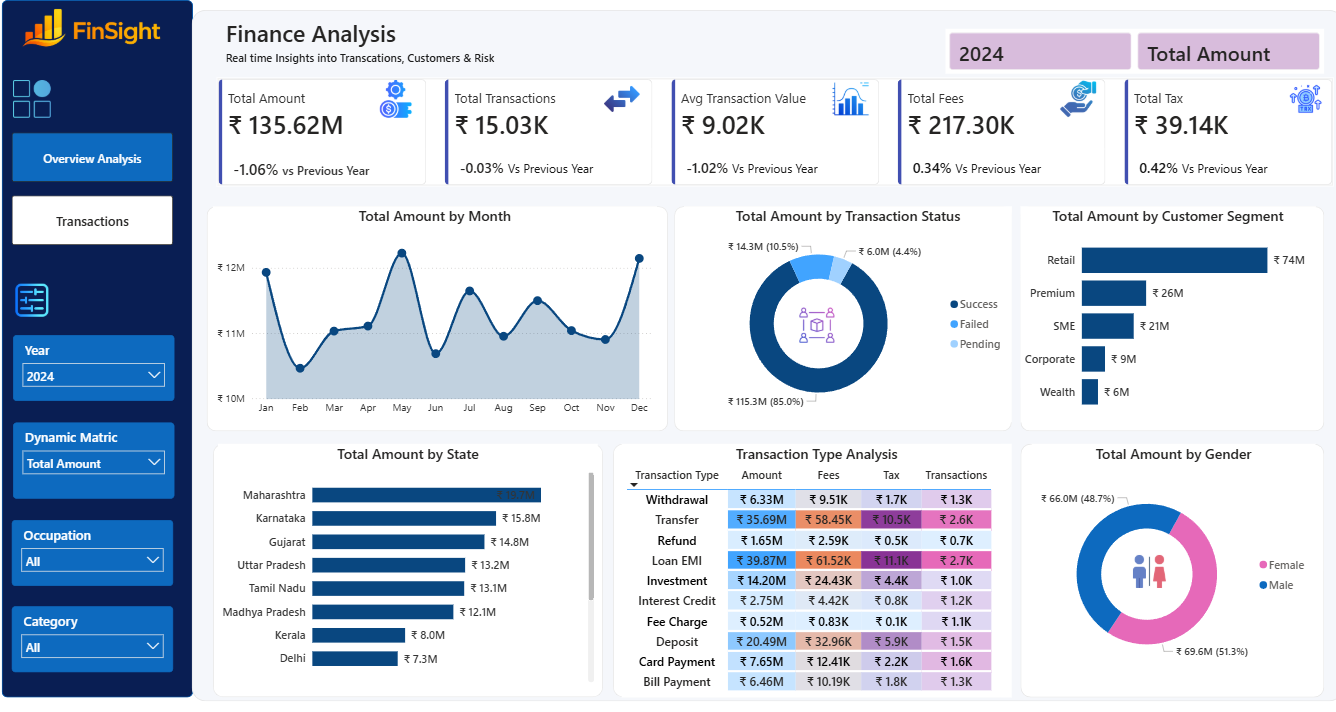

The page's visual inventory and layout, read from the dashboard file:
{"tool":"powerbi","page":{"name":"Overview Analysis","canvas":[1800,950],"ordinal":0},"visuals":[{"type":"shape","box":[11.7,0,255,930],"z":0},{"type":"shape","box":[265,13.3,1535,921.7],"z":1000},{"type":"image","box":[0,0,266.7,75],"z":2000},{"type":"cardVisual","fields":{"Data":["finance_transactions.Dashboard Title"]},"box":[293.3,11.7,458.3,86.7],"z":3000},{"type":"cardVisual","fields":{"Data":["finance_transactions.Total Amount","finance_transactions.Total Transaction","finance_transactions.Avg Transaction Value","finance_transactions.Total Fees","finance_transactions.Total Tax"]},"box":[293.3,98.3,1503.3,155],"z":4000},{"type":"slicer","fields":{"Values":["Calendar Table.Year"]},"box":[26.7,446.7,215,88.3],"z":5000},{"type":"image","box":[511.7,106.7,50,50],"z":6000},{"type":"image","box":[813.3,106.7,50,50],"z":7000},{"type":"image","box":[1421.7,106.7,50,50],"z":8000},{"type":"image","box":[1118.3,106.7,50,50],"z":9000},{"type":"image","box":[1725,106.7,50,50],"z":10000},{"type":"shape","box":[285,275,615,300],"z":11000},{"type":"slicer","fields":{"Values":["Dynamic Matric.Dynamic Matric"]},"box":[26.7,563.3,215,101.7],"z":12000},{"type":"areaChart","fields":{"Y":["finance_transactions.Total Amount"],"Category":["Calendar Table.Month"]},"box":[293.3,275,591.7,288.3],"z":13000},{"type":"cardVisual","fields":{"Data":["finance_transactions.Selected Year","finance_transactions.Selected Dynamic Measure"]},"box":[1270,38.3,505,60],"z":14000},{"type":"shape","box":[908.3,275,450,300],"z":15000},{"type":"donutChart","title":"Total Amount by Transaction Status","fields":{"Y":["finance_transactions.Total Amount"],"Category":["finance_transactions.transaction_status"]},"box":[921.7,275,436.7,288.3],"z":16000},{"type":"shape","box":[1370,275,405,300],"z":17000},{"type":"barChart","title":"Total Amount by Customer Segment","fields":{"Y":["finance_transactions.Total Amount"],"Category":["customers.customer_segment"]},"box":[1370,275,393.3,288.3],"z":18000},{"type":"shape","box":[293.3,591.7,520,338],"z":19000},{"type":"barChart","title":"Total Amount by State","fields":{"Y":["finance_transactions.Total Amount"],"Category":["customers.state"]},"box":[300,591.7,506.7,323.3],"z":20000},{"type":"shape","box":[826.7,591.7,530,338],"z":21000},{"type":"tableEx","title":"Transaction Type Analysis","fields":{"Values":["finance_transactions.transaction_type","finance_transactions.Total Amount","finance_transactions.Total Fees","finance_transactions.Total Tax","finance_transactions.Total Transactions"]},"box":[838.3,591.7,520,338.3],"z":22000},{"type":"shape","box":[1370,591.7,405,338.3],"z":23000},{"type":"donutChart","title":"Total Amount by Gender","fields":{"Y":["finance_transactions.Total Amount"],"Category":["customers.gender"]},"box":[1385,591.7,378.3,323.3],"z":24000},{"type":"image","box":[1073.3,408.3,50,50],"z":25000},{"type":"image","box":[1516.7,736.7,50,50],"z":26000},{"type":"slicer","fields":{"Values":["customers.occupation"]},"box":[25,693.3,215,88.3],"z":27000},{"type":"slicer","fields":{"Values":["finance_transactions.merchant_category"]},"box":[25,808.3,215,88.3],"z":28000},{"type":"pageNavigator","box":[25,176.7,215,151.7],"z":29000},{"type":"image","box":[26.7,106.7,50,50],"z":30000},{"type":"image","box":[26.7,375,50,50],"z":31000}]}

Visuals, with their boxes on the page's 1800x950 design canvas (x1, y1, x2, y2). These are canvas units, not pixel positions in the 1336x712 screenshot, which may show the page scaled, cropped or inside an application window:
shape: box(12, 0, 267, 930)
shape: box(265, 13, 1800, 935)
image: box(0, 0, 267, 75)
cardVisual - finance_transactions.Dashboard Title: box(293, 12, 752, 98)
cardVisual - finance_transactions.Total Amount x finance_transactions.Total Transaction: box(293, 98, 1797, 253)
slicer - Calendar Table.Year: box(27, 447, 242, 535)
image: box(512, 107, 562, 157)
image: box(813, 107, 863, 157)
image: box(1422, 107, 1472, 157)
image: box(1118, 107, 1168, 157)
image: box(1725, 107, 1775, 157)
shape: box(285, 275, 900, 575)
slicer - Dynamic Matric.Dynamic Matric: box(27, 563, 242, 665)
areaChart - finance_transactions.Total Amount x Calendar Table.Month: box(293, 275, 885, 563)
cardVisual - finance_transactions.Selected Year x finance_transactions.Selected Dynamic Measure: box(1270, 38, 1775, 98)
shape: box(908, 275, 1358, 575)
"Total Amount by Transaction Status" donutChart: box(922, 275, 1358, 563)
shape: box(1370, 275, 1775, 575)
"Total Amount by Customer Segment" barChart: box(1370, 275, 1763, 563)
shape: box(293, 592, 813, 930)
"Total Amount by State" barChart: box(300, 592, 807, 915)
shape: box(827, 592, 1357, 930)
"Transaction Type Analysis" tableEx: box(838, 592, 1358, 930)
shape: box(1370, 592, 1775, 930)
"Total Amount by Gender" donutChart: box(1385, 592, 1763, 915)
image: box(1073, 408, 1123, 458)
image: box(1517, 737, 1567, 787)
slicer - customers.occupation: box(25, 693, 240, 782)
slicer - finance_transactions.merchant_category: box(25, 808, 240, 897)
pageNavigator: box(25, 177, 240, 328)
image: box(27, 107, 77, 157)
image: box(27, 375, 77, 425)
